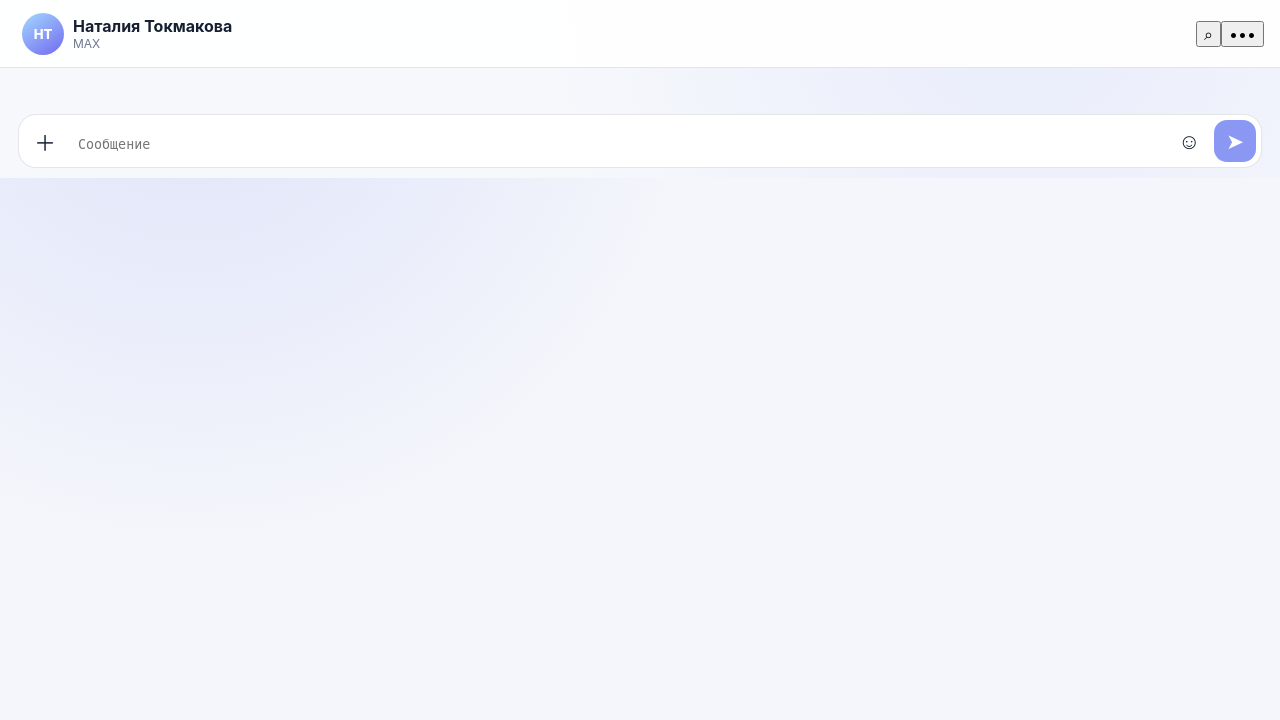
Test: ContactProfile › opens from the name in the header
Click the button with aria-label "Профиль: ". click: (43, 34)
box: left=16, top=12, right=1184, bottom=56
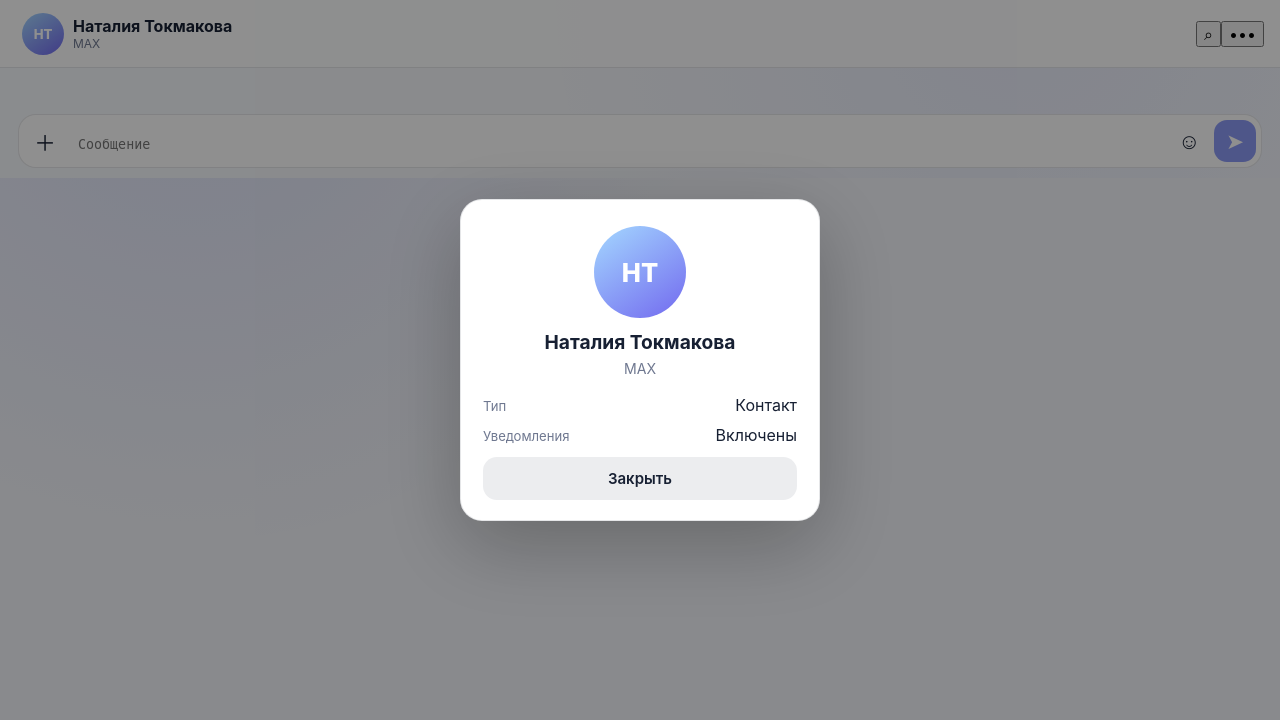
Result: the dialog shows "Наталия Токмакова" at left=544, top=330, right=736, bottom=354
